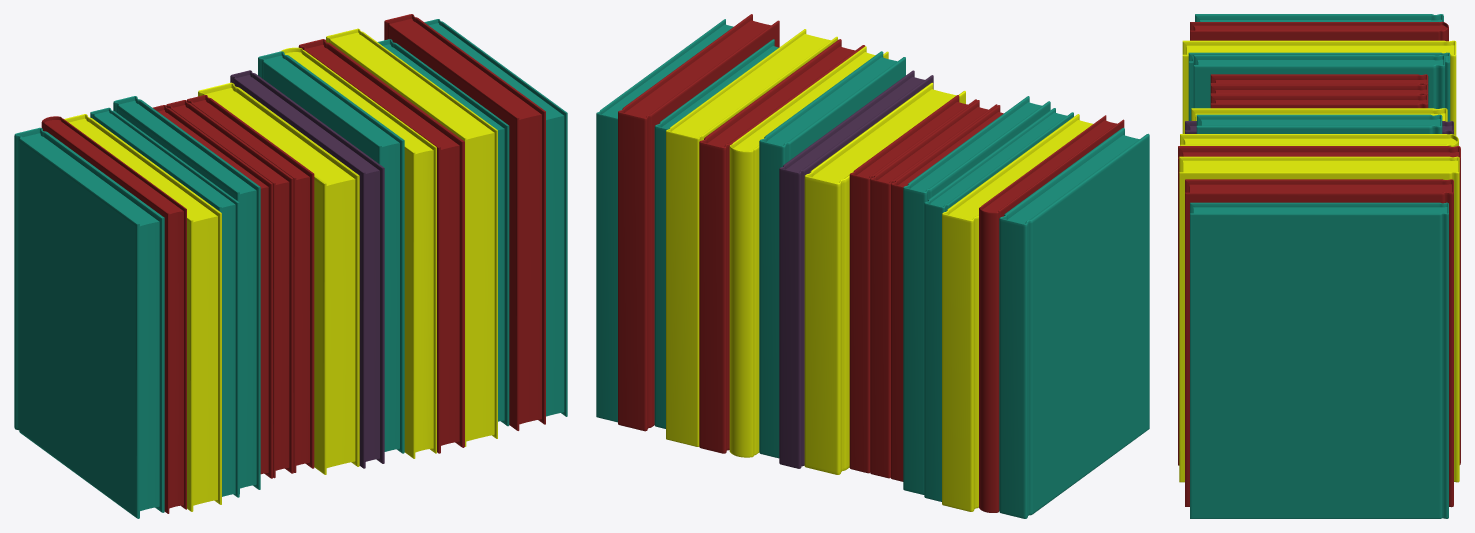
The model's file is Books.fbx.
3 renders of one model, left to right at view 1: azimuth 30°, elevation 25°; view 2: azimuth 150°, elevation 25°; view 3: azimuth 270°, elevation 25°, orthographic.
Visible parts, largest first — view 1: 05_Custom5, 05_Custo13, 05_Custo20, 05_Custo18, 05_Custom7, 05_Custo16, 05_Custo17, 05_Custo15, 05_Custo14, 05_Custom9, 05_Custom6, 05_Custo12 (+5 smaller); view 2: 05_Custom5, 05_Custo13, 05_Custo20, 05_Custo18, 05_Custom7, 05_Custo17, 05_Custo16, 05_Custo15, 05_Custo14, 05_Custom9, 05_Custom6, 05_Custo12 (+5 smaller); view 3: 05_Custo21, 05_Custo18, 05_Custo20, 05_Custom9, 05_Custo15, 05_Custom6, 05_Custom7, 05_Custo17, 05_Custo16, 05_Custo12, 05_Custo11, 05_Custo10 (+3 smaller).
Part boxes in pixels (x1=…): 05_Custom5: x1=14, y1=127, x2=164, y2=518; 05_Custo13: x1=198, y1=82, x2=359, y2=474; 05_Custo20: x1=384, y1=14, x2=545, y2=430; 05_Custo18: x1=326, y1=28, x2=497, y2=446; 05_Custom7: x1=64, y1=114, x2=221, y2=511; 05_Custo16: x1=280, y1=47, x2=436, y2=458; 05_Custo17: x1=298, y1=39, x2=464, y2=453; 05_Custo15: x1=258, y1=51, x2=404, y2=453; 05_Custo14: x1=230, y1=70, x2=384, y2=468; 05_Custom9: x1=113, y1=96, x2=260, y2=493; 05_Custom6: x1=41, y1=116, x2=186, y2=513; 05_Custo12: x1=187, y1=95, x2=314, y2=472; 05_Custom5: x1=999, y1=127, x2=1149, y2=518; 05_Custo13: x1=804, y1=82, x2=965, y2=474; 05_Custo20: x1=618, y1=14, x2=779, y2=431; 05_Custo18: x1=666, y1=29, x2=837, y2=446; 05_Custom7: x1=942, y1=114, x2=1092, y2=511; 05_Custo17: x1=699, y1=39, x2=864, y2=453; 05_Custo16: x1=729, y1=46, x2=888, y2=457; 05_Custo15: x1=759, y1=51, x2=905, y2=458; 05_Custo14: x1=779, y1=70, x2=933, y2=468; 05_Custom9: x1=903, y1=96, x2=1050, y2=494; 05_Custom6: x1=979, y1=115, x2=1124, y2=512; 05_Custo12: x1=849, y1=95, x2=977, y2=473; 05_Custo21: x1=1190, y1=202, x2=1448, y2=518; 05_Custo18: x1=1179, y1=156, x2=1459, y2=482; 05_Custo20: x1=1185, y1=179, x2=1453, y2=507; 05_Custom9: x1=1193, y1=55, x2=1445, y2=108; 05_Custo15: x1=1196, y1=114, x2=1442, y2=133; 05_Custom6: x1=1190, y1=21, x2=1448, y2=41; 05_Custom7: x1=1182, y1=40, x2=1456, y2=135; 05_Custo17: x1=1178, y1=146, x2=1460, y2=465; 05_Custo16: x1=1180, y1=134, x2=1458, y2=146; 05_Custo12: x1=1210, y1=94, x2=1428, y2=108; 05_Custo11: x1=1210, y1=84, x2=1428, y2=95; 05_Custo10: x1=1210, y1=74, x2=1428, y2=85.
Size of the model in its own units: 395 by 276 by 225.
